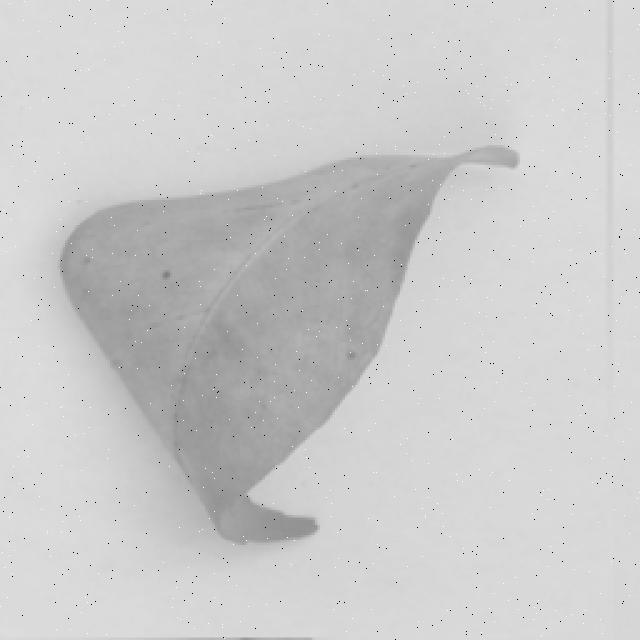blackspot: (40, 99, 550, 598)
